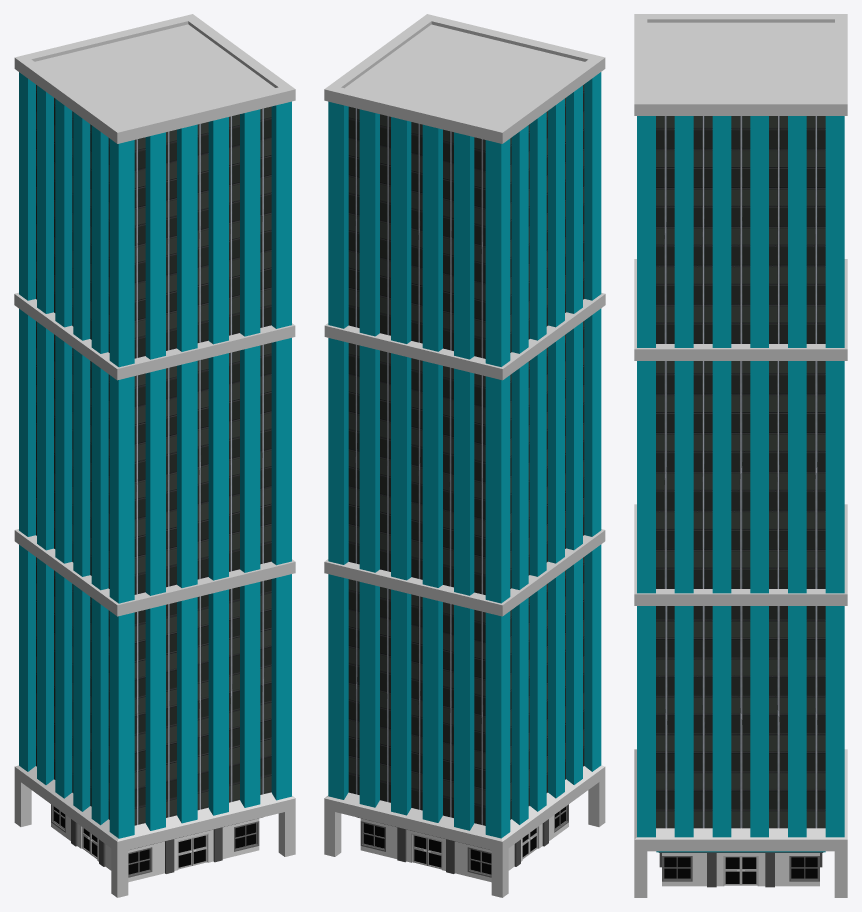
3 renders of one model, left to right at view 1: azimuth 30°, elevation 25°; view 2: azimuth 150°, elevation 25°; view 3: azimuth 270°, elevation 25°, orthographic. The views are drawn at different scales.
Parts seen in each view (by area): view 1: EC-03; view 2: EC-03; view 3: EC-03.
Boxes of the visible parts, x1,y1,x2,y2 form: EC-03: [14, 14, 295, 897]; EC-03: [324, 14, 605, 897]; EC-03: [634, 14, 847, 897].
Size of what is drawn, in the model's own units: 16.6 by 67.98 by 16.58.
